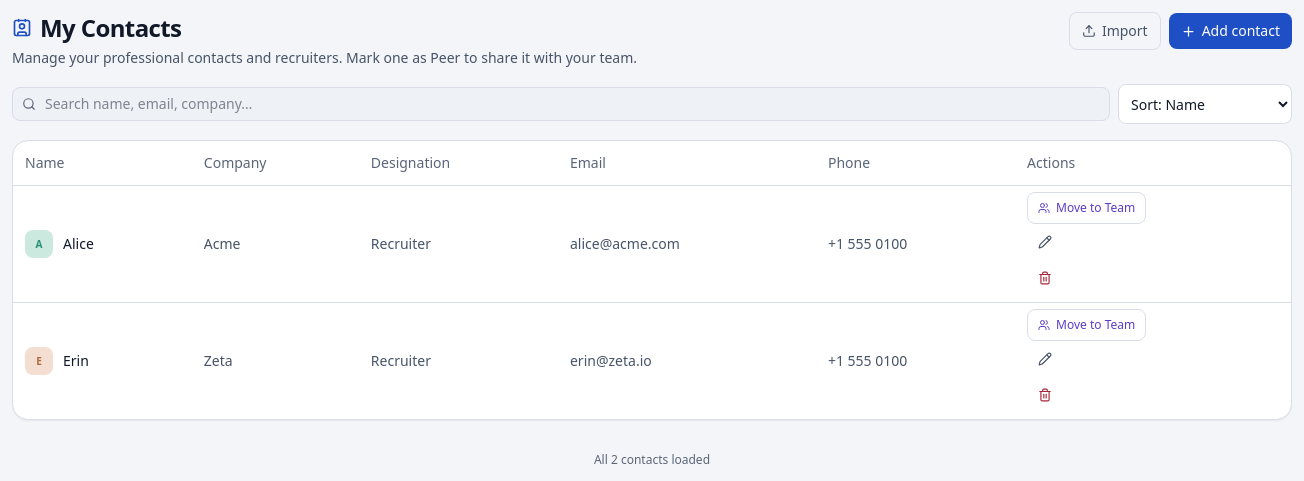
Test: ContactsPanel › searches by name, email and company
Check: the text "Alice" is shown, box [63,234,94,254]
Step 1. Type "erin" into the field named "Search contacts" → (561, 104), box [12,87,1110,121]
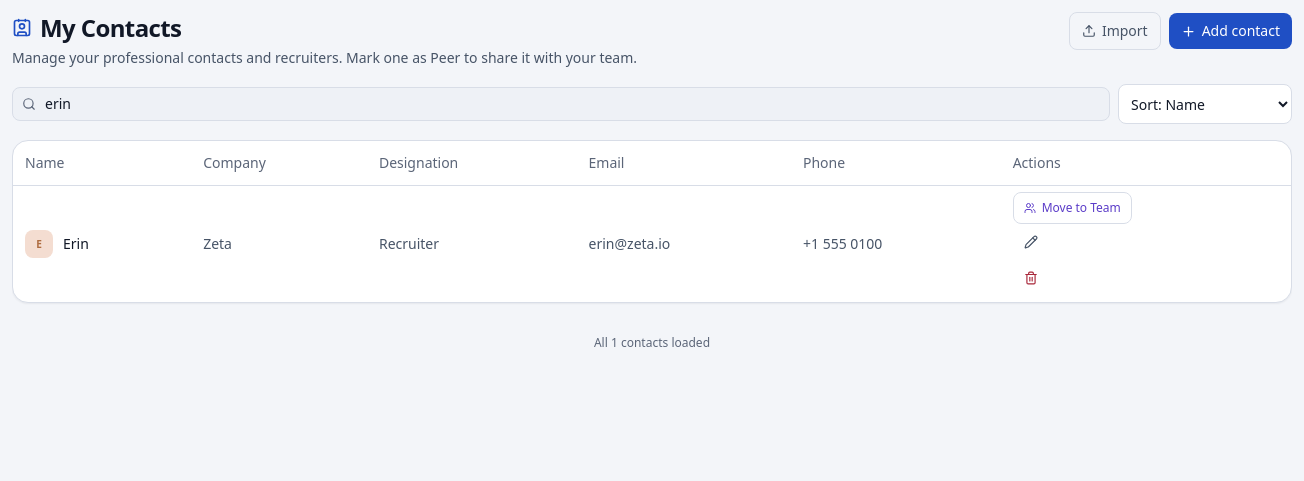
Check: the text "Erin" is shown, box [63,234,89,254]
Check: the text "Alice" is gone
Step 2. Replace the text in the field named "Search contacts" with "alice@acme" → (561, 104), box [12,87,1110,121]
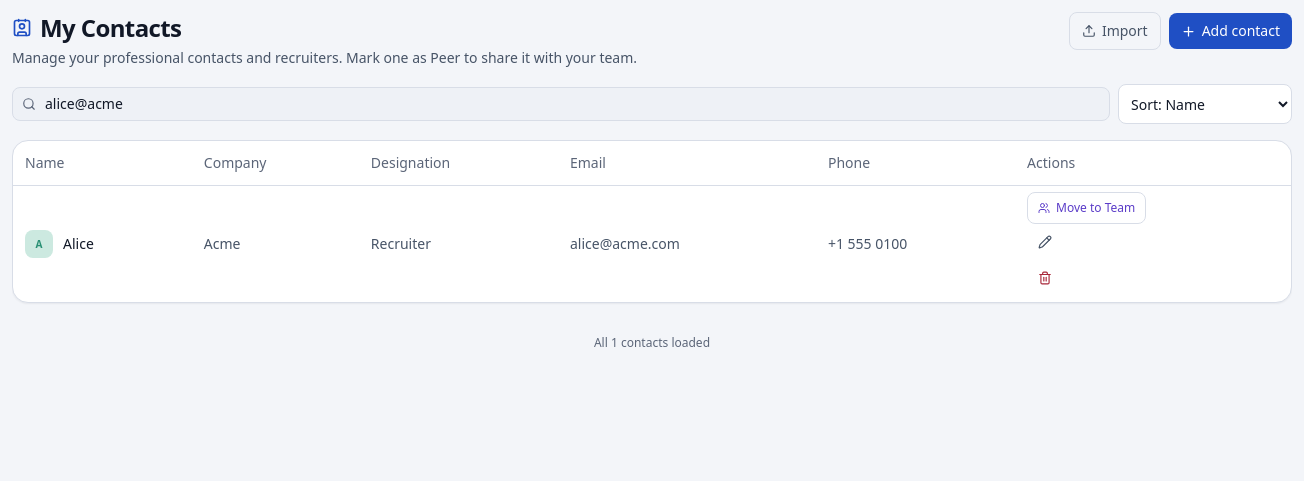
Check: the text "Alice" is shown, box [63,234,94,254]
Check: the text "Erin" is gone
Step 3. Replace the text in the field named "Search contacts" with "zeta" → (561, 104), box [12,87,1110,121]
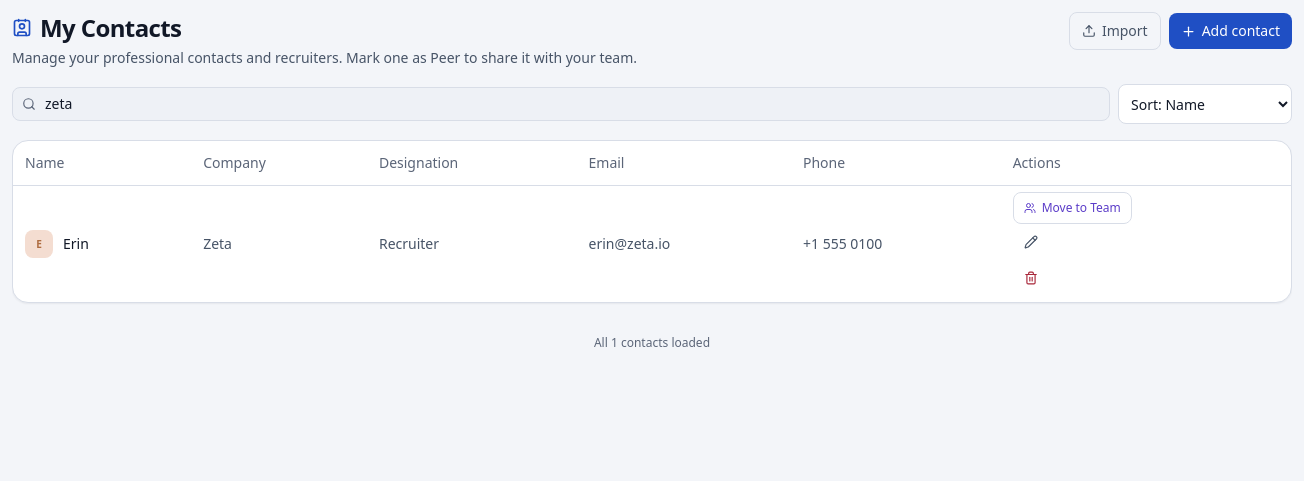
Check: the text "Erin" is shown, box [63,234,89,254]
